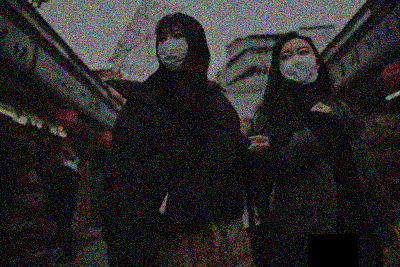with_mask: (277, 43, 318, 83), (156, 27, 189, 70)
